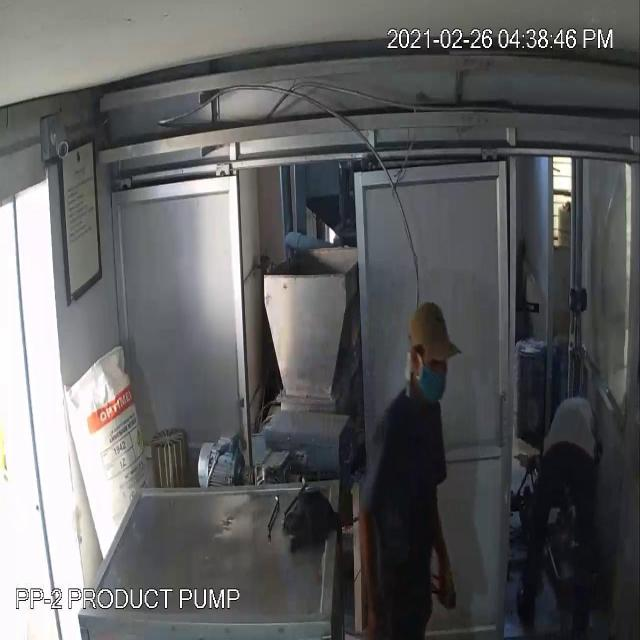no-helmet: (402, 296, 462, 397)
